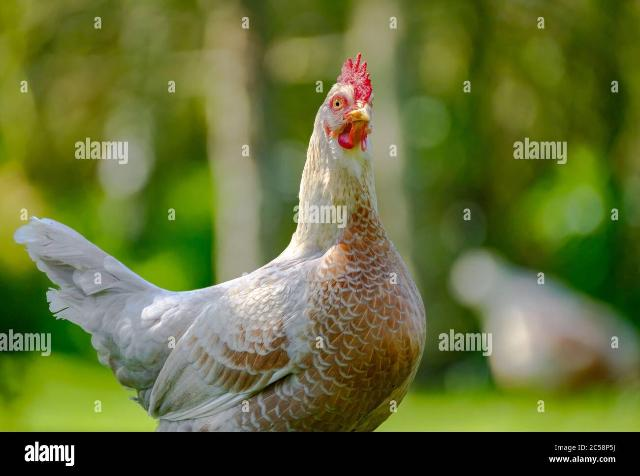Chicken: (15, 54, 426, 431)
